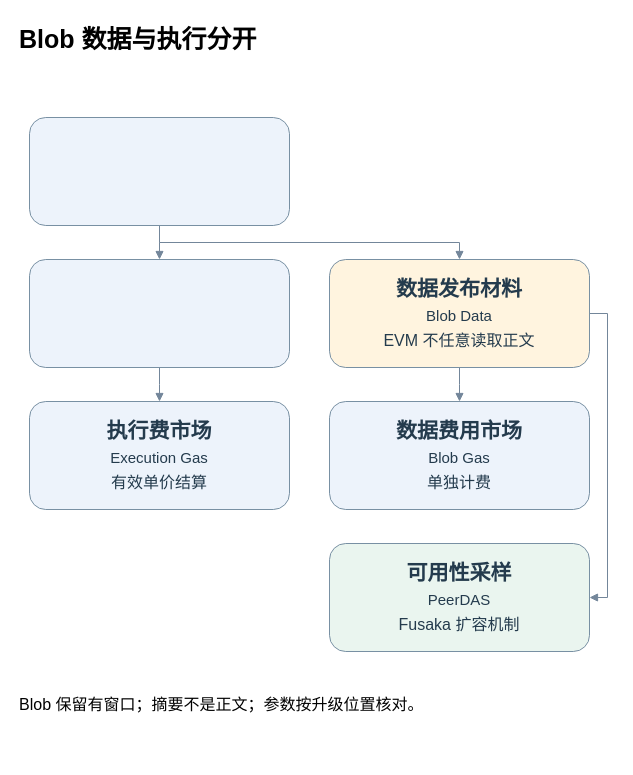
This 633x775 diagram has some shape labels left out. Each missing label, with the centre of its shape:
普通执行输入 Calldata / EVM 合约读取执行字节: the point at 159,313
类型 3 请求 Blob Transaction 含 Versioned Hashes: the point at 159,171
